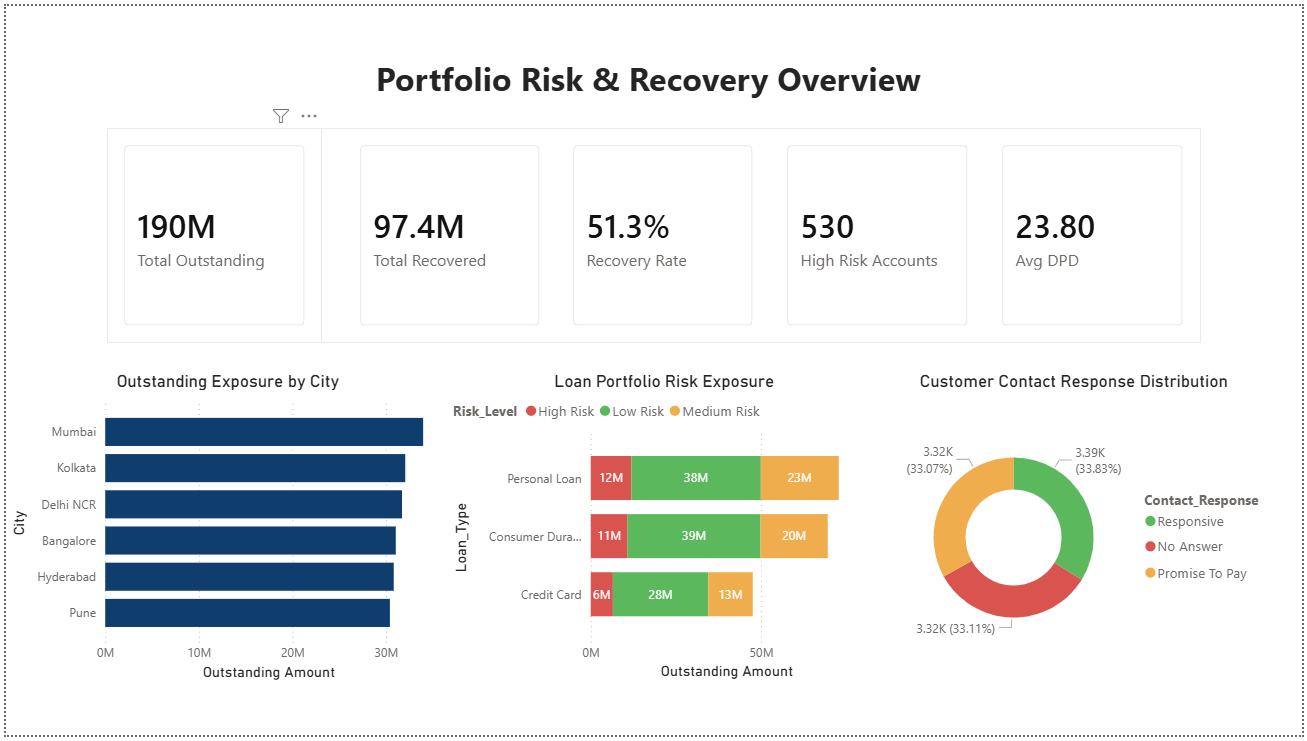

The page's visual inventory and layout, read from the dashboard file:
{"tool":"powerbi","page":{"name":"Executive Overview","canvas":[1280,720],"ordinal":0},"visuals":[{"type":"cardVisual","fields":{"Data":["analytics_dataset.Total Outstanding"]},"box":[100,120,212.2,212.2],"z":0,"group":"g1"},{"type":"clusteredBarChart","title":"Outstanding Exposure by City","fields":{"Category":["analytics_dataset.City"],"Y":["Sum(analytics_dataset.Outstanding_Amount)"]},"box":[0,360.5,438.5,310],"z":0},{"type":"cardVisual","fields":{"Data":["analytics_dataset.Total Recovered"]},"box":[332.6,120,211.2,212.5],"z":1000,"group":"g1"},{"type":"barChart","title":"Loan Portfolio Risk Exposure","fields":{"Y":["Sum(analytics_dataset.Outstanding_Amount)"],"Category":["analytics_dataset.Loan_Type"],"Series":["analytics_dataset.Risk_Level"]},"box":[436.2,360.5,427,310],"z":1000},{"type":"cardVisual","fields":{"Data":["analytics_dataset.Recovery Rate %"]},"box":[543.9,120,211.2,212.5],"z":2000,"group":"g1"},{"type":"donutChart","title":"Customer Contact Response Distribution","fields":{"Y":["CountNonNull(analytics_dataset.Loan_ID)"],"Category":["analytics_dataset.Contact_Response"]},"box":[861,360.5,386.9,310],"z":2000},{"type":"cardVisual","fields":{"Data":["analytics_dataset.High Risk Accounts"]},"box":[755.1,120,212.5,212.5],"z":3000,"group":"g1"},{"type":"textbox","box":[360,43.8,560,55],"z":4000},{"type":"cardVisual","fields":{"Data":["analytics_dataset.Avg DPD"]},"box":[967.6,120,212.5,212.5],"z":4000,"group":"g1"},{"type":"group","id":"g1","title":"Group 1","box":[100,120,1080,212.5],"z":5000}]}

Visuals, with their boxes in screenshot pixels (x1, y1, x2, y2), scaled from the page's 1280x720 canvas onto the 1307x741 screenshot:
cardVisual - analytics_dataset.Total Outstanding: pyautogui.locateOnScreen(102, 123, 319, 342)
"Outstanding Exposure by City" clusteredBarChart: pyautogui.locateOnScreen(0, 371, 448, 690)
cardVisual - analytics_dataset.Total Recovered: pyautogui.locateOnScreen(340, 123, 555, 342)
"Loan Portfolio Risk Exposure" barChart: pyautogui.locateOnScreen(445, 371, 881, 690)
cardVisual - analytics_dataset.Recovery Rate %: pyautogui.locateOnScreen(555, 123, 771, 342)
"Customer Contact Response Distribution" donutChart: pyautogui.locateOnScreen(879, 371, 1274, 690)
cardVisual - analytics_dataset.High Risk Accounts: pyautogui.locateOnScreen(771, 123, 988, 342)
textbox: pyautogui.locateOnScreen(368, 45, 939, 102)
cardVisual - analytics_dataset.Avg DPD: pyautogui.locateOnScreen(988, 123, 1205, 342)
"Group 1" group: pyautogui.locateOnScreen(102, 123, 1205, 342)
